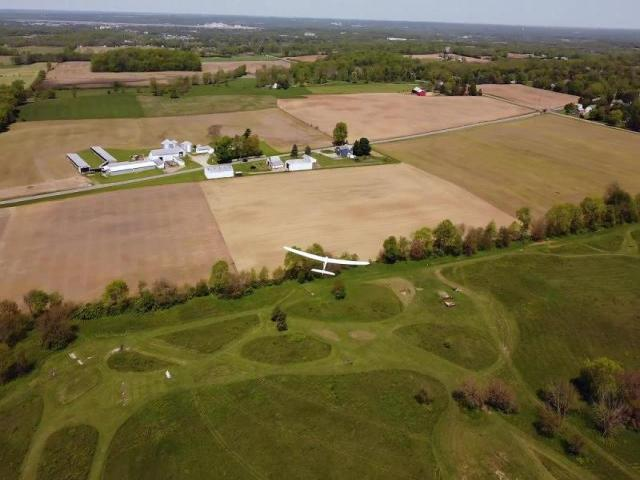hedef: (280, 238, 374, 284)
